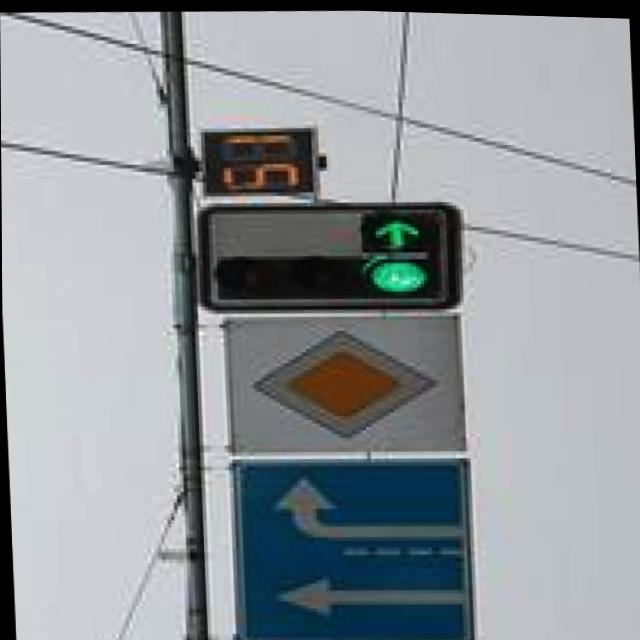green_light: (351, 231, 446, 328)
